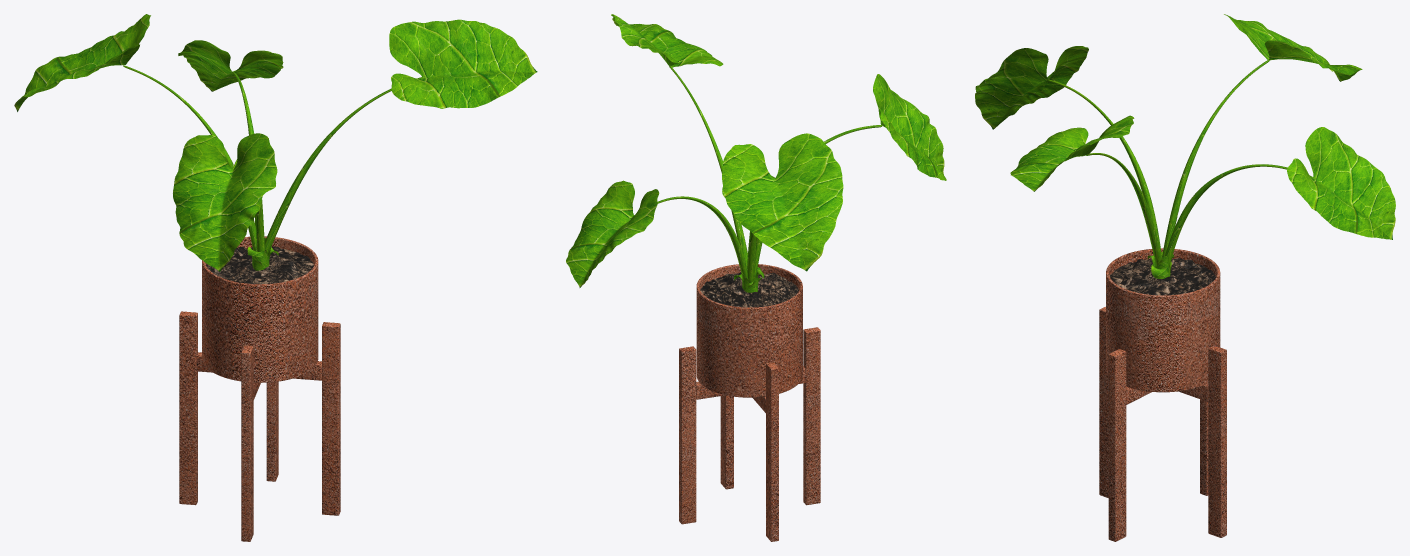
File: planta.obj
3 renders of one model, left to right at view 1: azimuth 30°, elevation 25°; view 2: azimuth 150°, elevation 25°; view 3: azimuth 270°, elevation 25°, orthographic. The views are drawn at different scales.
Parts seen in each view (by area): view 1: Alocasia_Macrorrhiza, Pot_01, Soil_01; view 2: Alocasia_Macrorrhiza, Pot_01, Soil_01; view 3: Alocasia_Macrorrhiza, Pot_01, Soil_01.
Part boxes in pixels (<box>): Alocasia_Macrorrhiza: <box>14,14,537,271</box>; Pot_01: <box>179,236,340,541</box>; Soil_01: <box>206,246,313,284</box>; Alocasia_Macrorrhiza: <box>566,14,946,292</box>; Pot_01: <box>679,264,820,541</box>; Soil_01: <box>700,272,798,307</box>; Alocasia_Macrorrhiza: <box>975,14,1395,278</box>; Pot_01: <box>1099,248,1226,541</box>; Soil_01: <box>1110,258,1215,295</box>.
Bounding box in the file's own units: 42.03 × 50.14 × 41.58.
3 materials, 3 textured.
